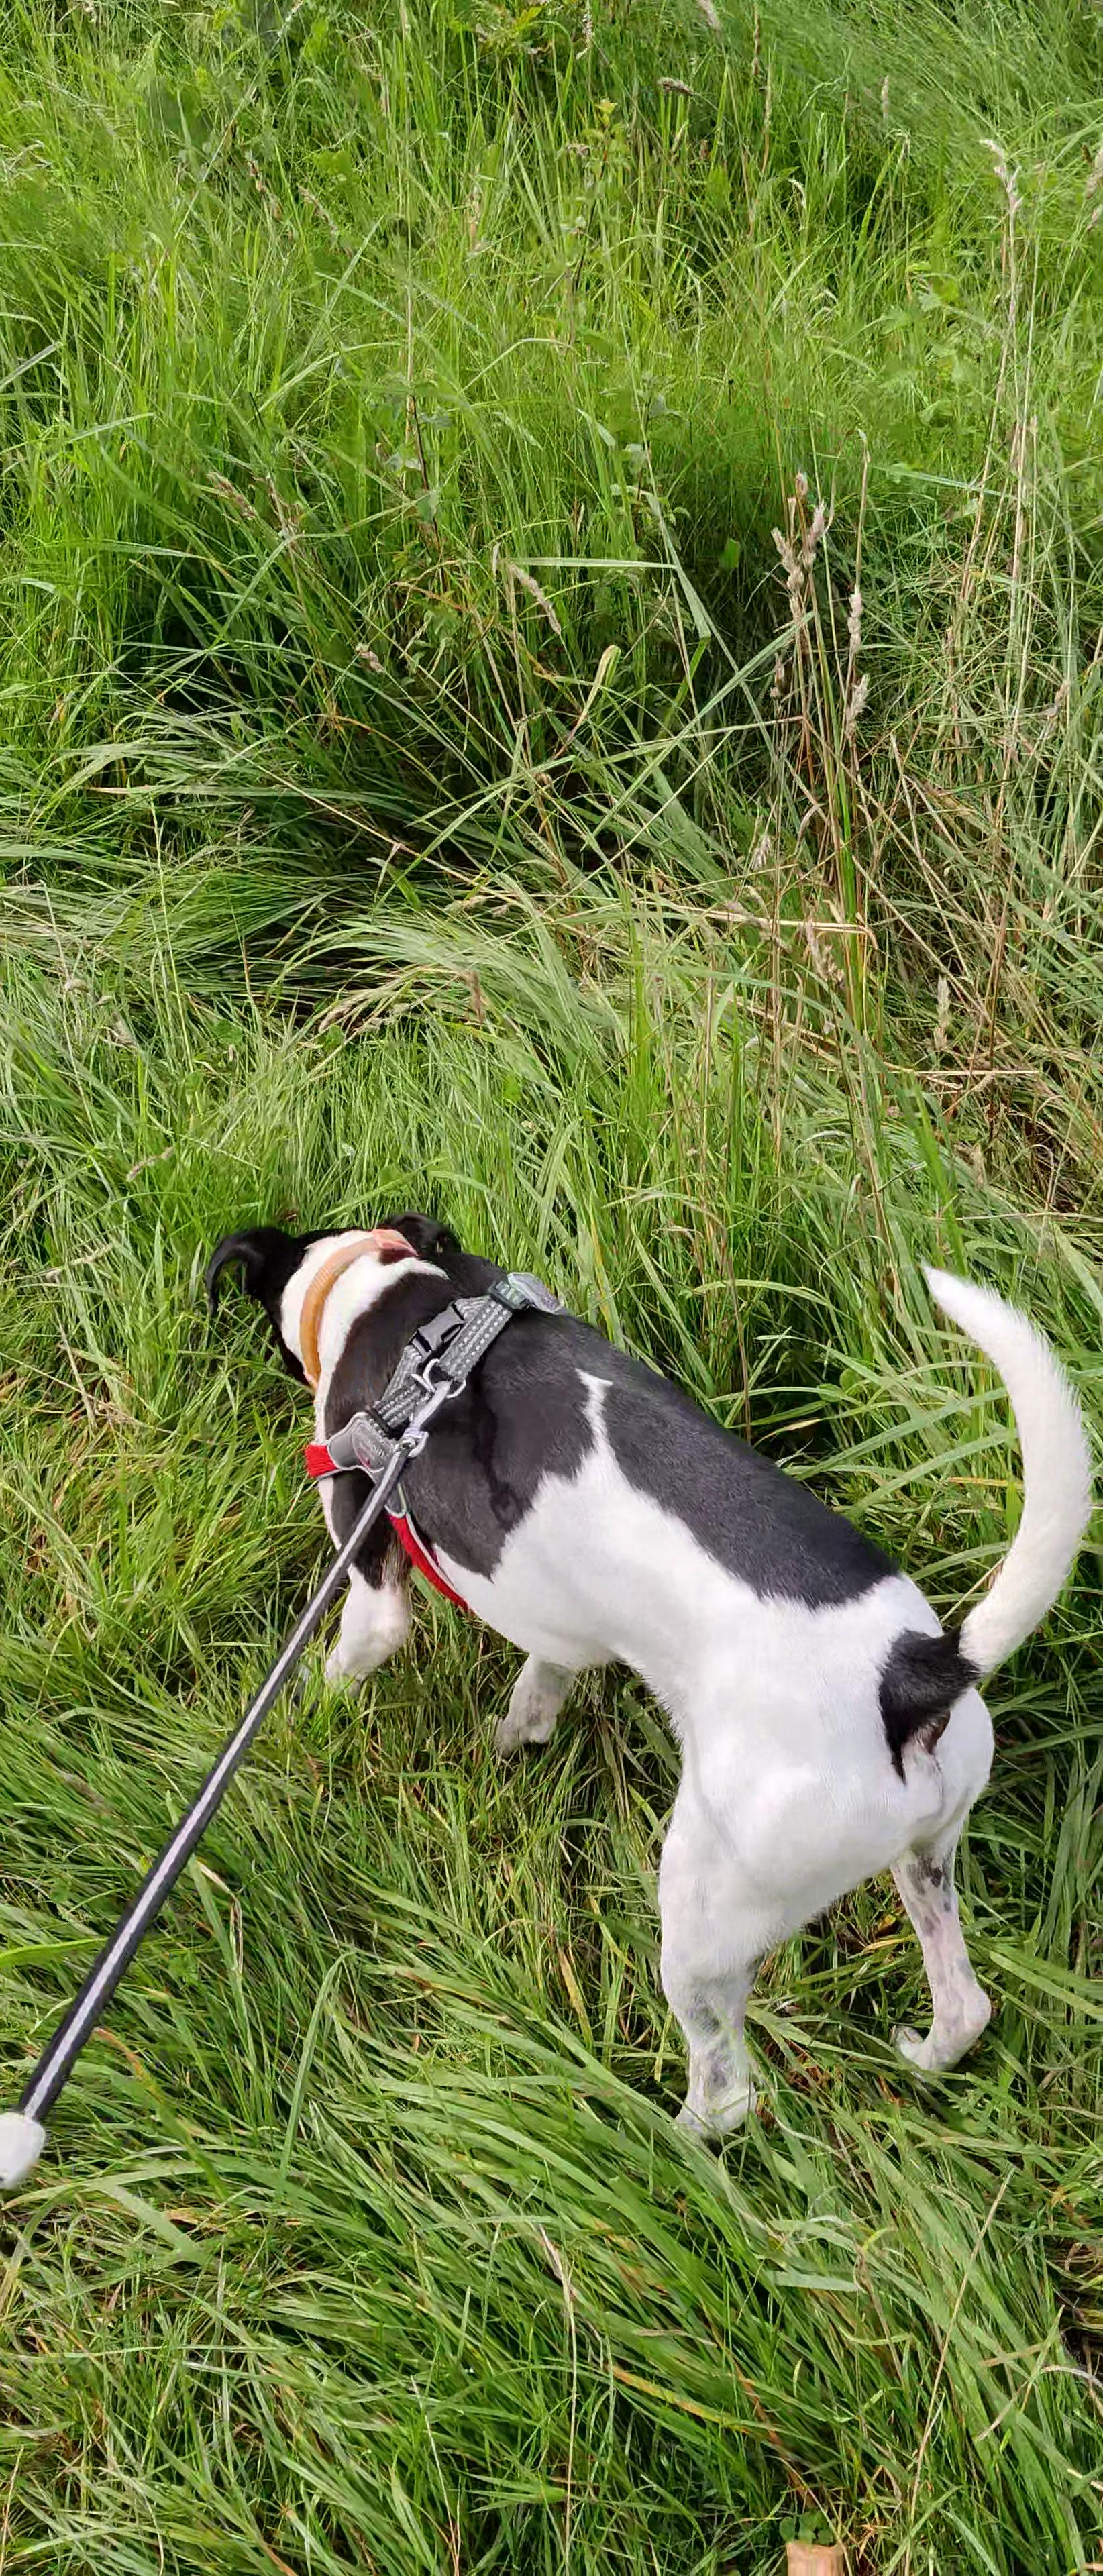Dog: (197, 1199, 1095, 2147)
